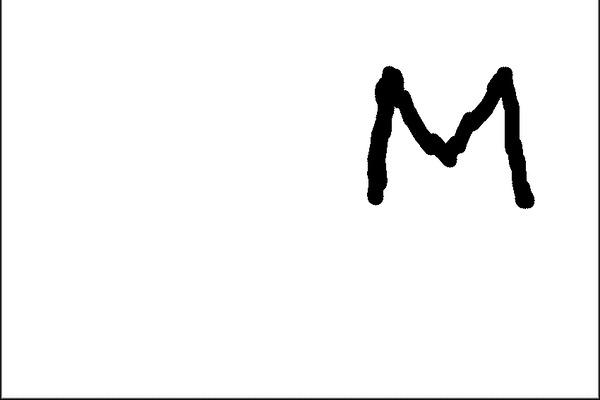M: (367, 59, 535, 214)
